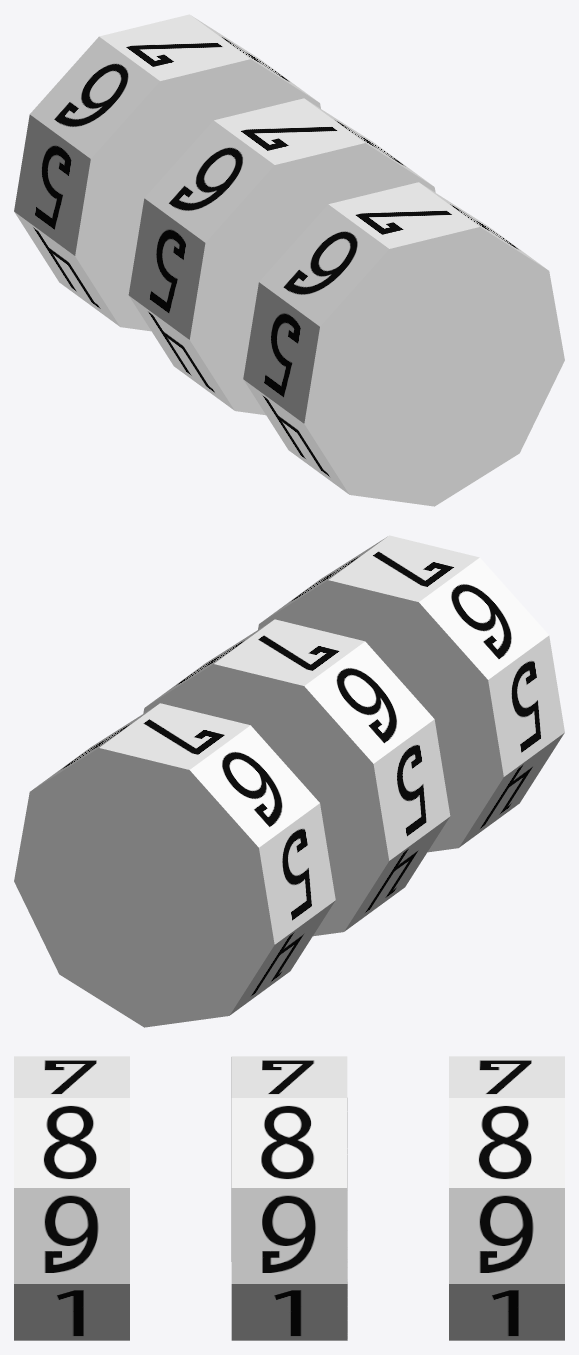
Rendered from Code Lock.fbx.
The picture shows the model from 3 angles, top to bottom: view 1: azimuth 30°, elevation 25°; view 2: azimuth 150°, elevation 25°; view 3: azimuth 270°, elevation 25°; orthographic projection. The views are drawn at different scales.
Visible parts, largest first — view 1: First Number, Third Number, Second Number; view 2: Third Number, First Number, Second Number; view 3: Second Number, First Number, Third Number.
Part boxes in pixels (x1,y1,x2,y2): First Number: [243, 182, 564, 506]; Third Number: [14, 14, 320, 331]; Second Number: [128, 98, 435, 415]; Third Number: [14, 703, 335, 1027]; First Number: [258, 535, 564, 852]; Second Number: [143, 619, 450, 936]; Second Number: [231, 1056, 347, 1340]; First Number: [14, 1056, 129, 1340]; Third Number: [449, 1056, 564, 1340].
Size of the model in its own units: 39.39 by 38.79 by 76.
